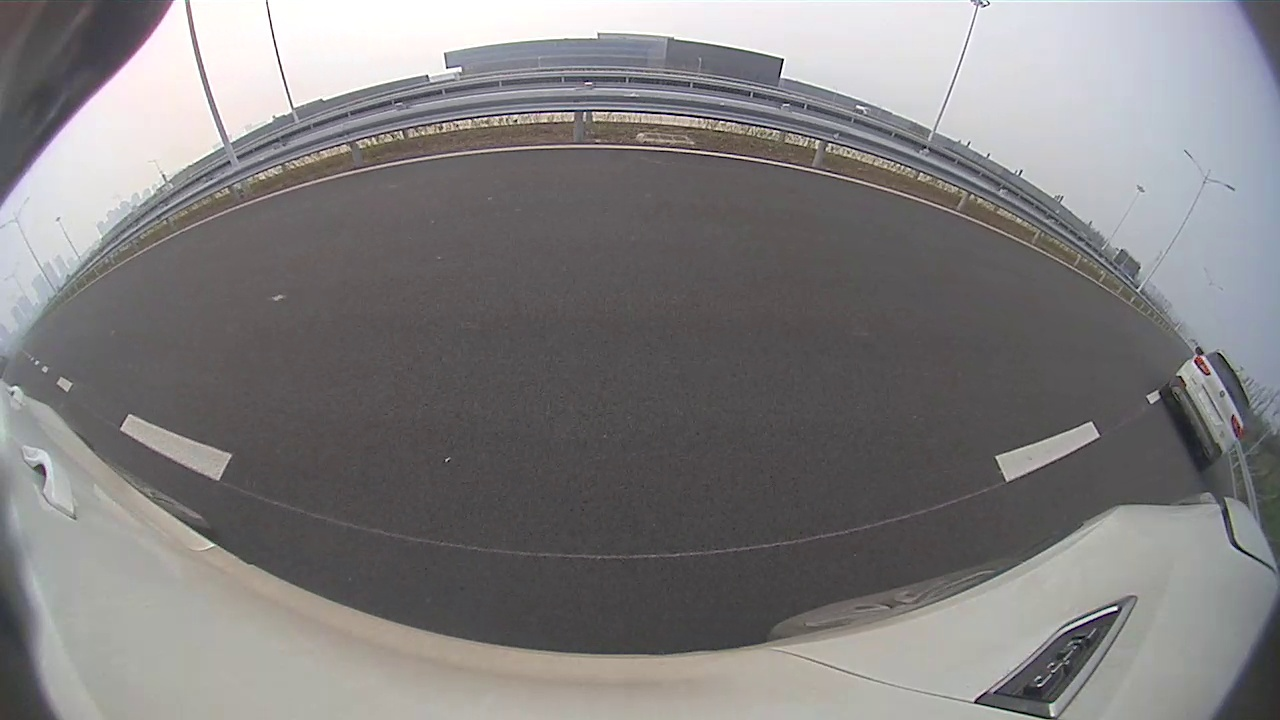car: (754, 47, 1275, 494)
front: (756, 181, 802, 263)
rear: (998, 285, 1180, 494)
